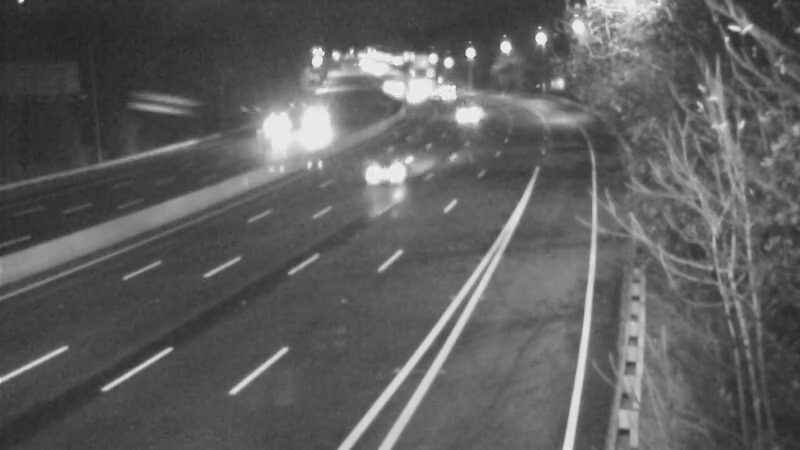vehicle: (347, 134, 427, 214), (374, 65, 424, 115), (423, 65, 473, 115), (390, 72, 440, 122), (441, 88, 491, 138), (257, 101, 307, 151), (296, 99, 346, 149)
